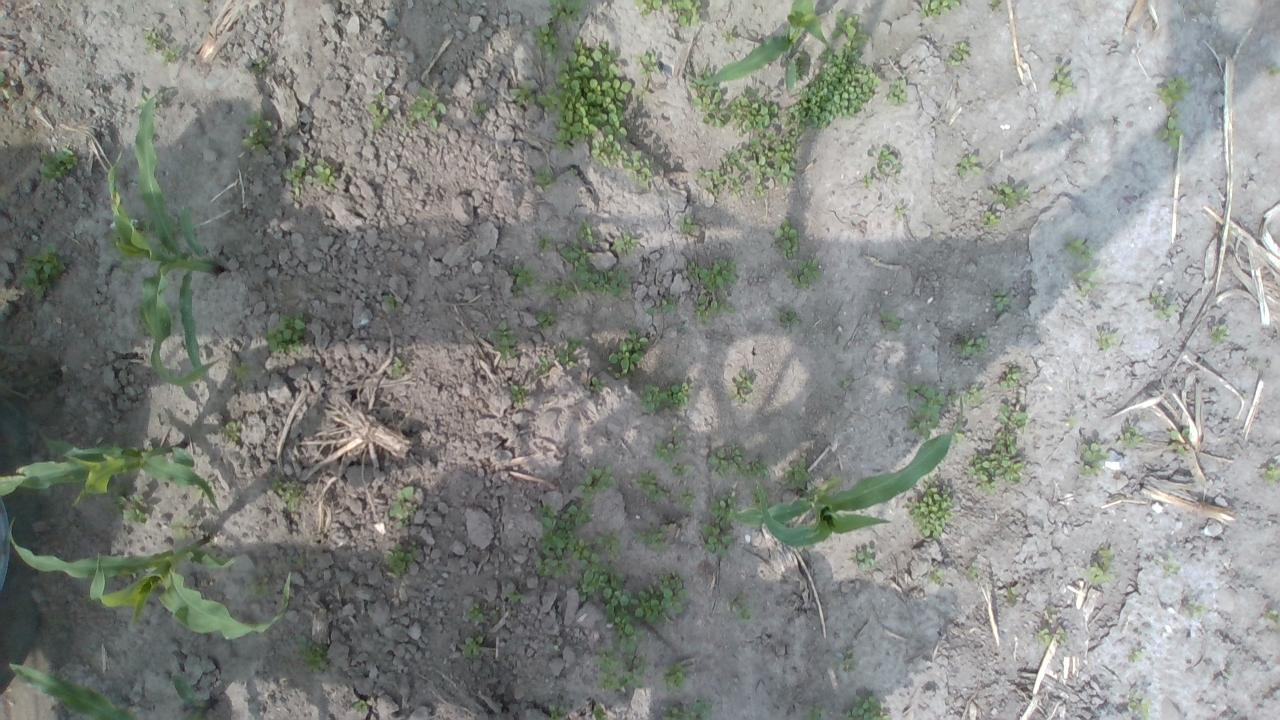Maize: (727, 391, 965, 548), (106, 90, 230, 391), (7, 516, 293, 644), (0, 432, 224, 516), (681, 0, 833, 92), (7, 660, 220, 720)
Weeds: (684, 43, 881, 200), (532, 463, 688, 627), (503, 31, 658, 190), (507, 214, 641, 304), (969, 399, 1030, 495), (680, 257, 741, 325), (773, 219, 828, 292), (900, 473, 954, 541), (599, 624, 654, 690), (15, 246, 68, 300), (1155, 74, 1190, 151), (902, 384, 951, 437), (705, 445, 773, 481), (980, 180, 1029, 226), (1060, 238, 1098, 294), (607, 329, 650, 376), (284, 157, 340, 193), (534, 336, 586, 374), (636, 0, 702, 29), (699, 495, 732, 551), (141, 26, 186, 66), (265, 313, 305, 358), (636, 376, 690, 409), (406, 84, 444, 130), (35, 150, 80, 183), (1082, 542, 1114, 588), (292, 633, 328, 673), (241, 112, 274, 154), (390, 485, 418, 530), (1076, 441, 1108, 480), (488, 320, 514, 364), (673, 693, 714, 720), (846, 694, 888, 720), (1148, 288, 1180, 322), (270, 474, 300, 510), (383, 547, 415, 578), (1121, 687, 1150, 720), (836, 10, 866, 41), (652, 432, 684, 461), (782, 460, 810, 492), (993, 366, 1024, 393), (920, 1, 964, 20), (954, 336, 988, 360), (1156, 549, 1184, 578), (879, 146, 902, 180), (1168, 427, 1192, 459), (730, 596, 756, 624), (881, 308, 908, 334), (369, 92, 389, 127), (664, 662, 684, 692), (1114, 425, 1144, 445), (774, 303, 800, 326), (954, 154, 981, 176), (1049, 69, 1071, 96), (1259, 458, 1279, 487), (1096, 328, 1120, 352), (458, 632, 482, 656), (1209, 320, 1231, 346), (924, 564, 950, 586), (947, 42, 970, 66), (854, 548, 880, 568), (548, 702, 574, 720), (1262, 608, 1280, 634), (243, 579, 270, 596), (502, 584, 526, 603), (508, 381, 526, 406), (888, 81, 906, 106), (231, 362, 250, 385), (1038, 626, 1068, 640), (679, 216, 698, 238), (737, 376, 755, 399), (389, 356, 406, 380), (991, 293, 1010, 313), (223, 421, 242, 441), (588, 373, 602, 400), (648, 303, 676, 316), (246, 58, 266, 76), (381, 290, 398, 310), (592, 703, 612, 720), (837, 652, 855, 670), (466, 608, 485, 625), (351, 698, 369, 715), (1131, 647, 1146, 666), (892, 205, 910, 220), (534, 311, 552, 326), (1184, 604, 1206, 616), (804, 710, 830, 720), (288, 552, 306, 566), (1265, 63, 1280, 78), (862, 172, 876, 187), (966, 564, 979, 576)
